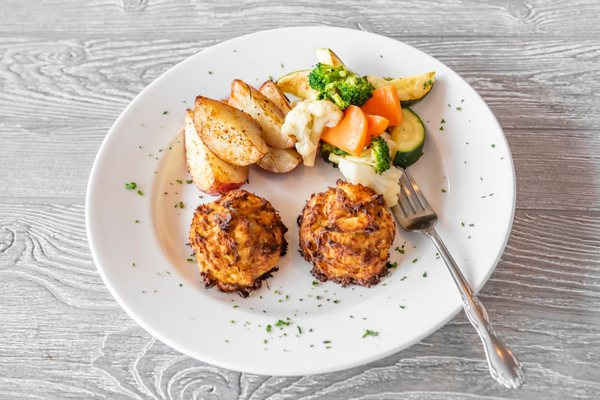curry: (308, 61, 374, 110)
taco: (320, 103, 370, 155)
